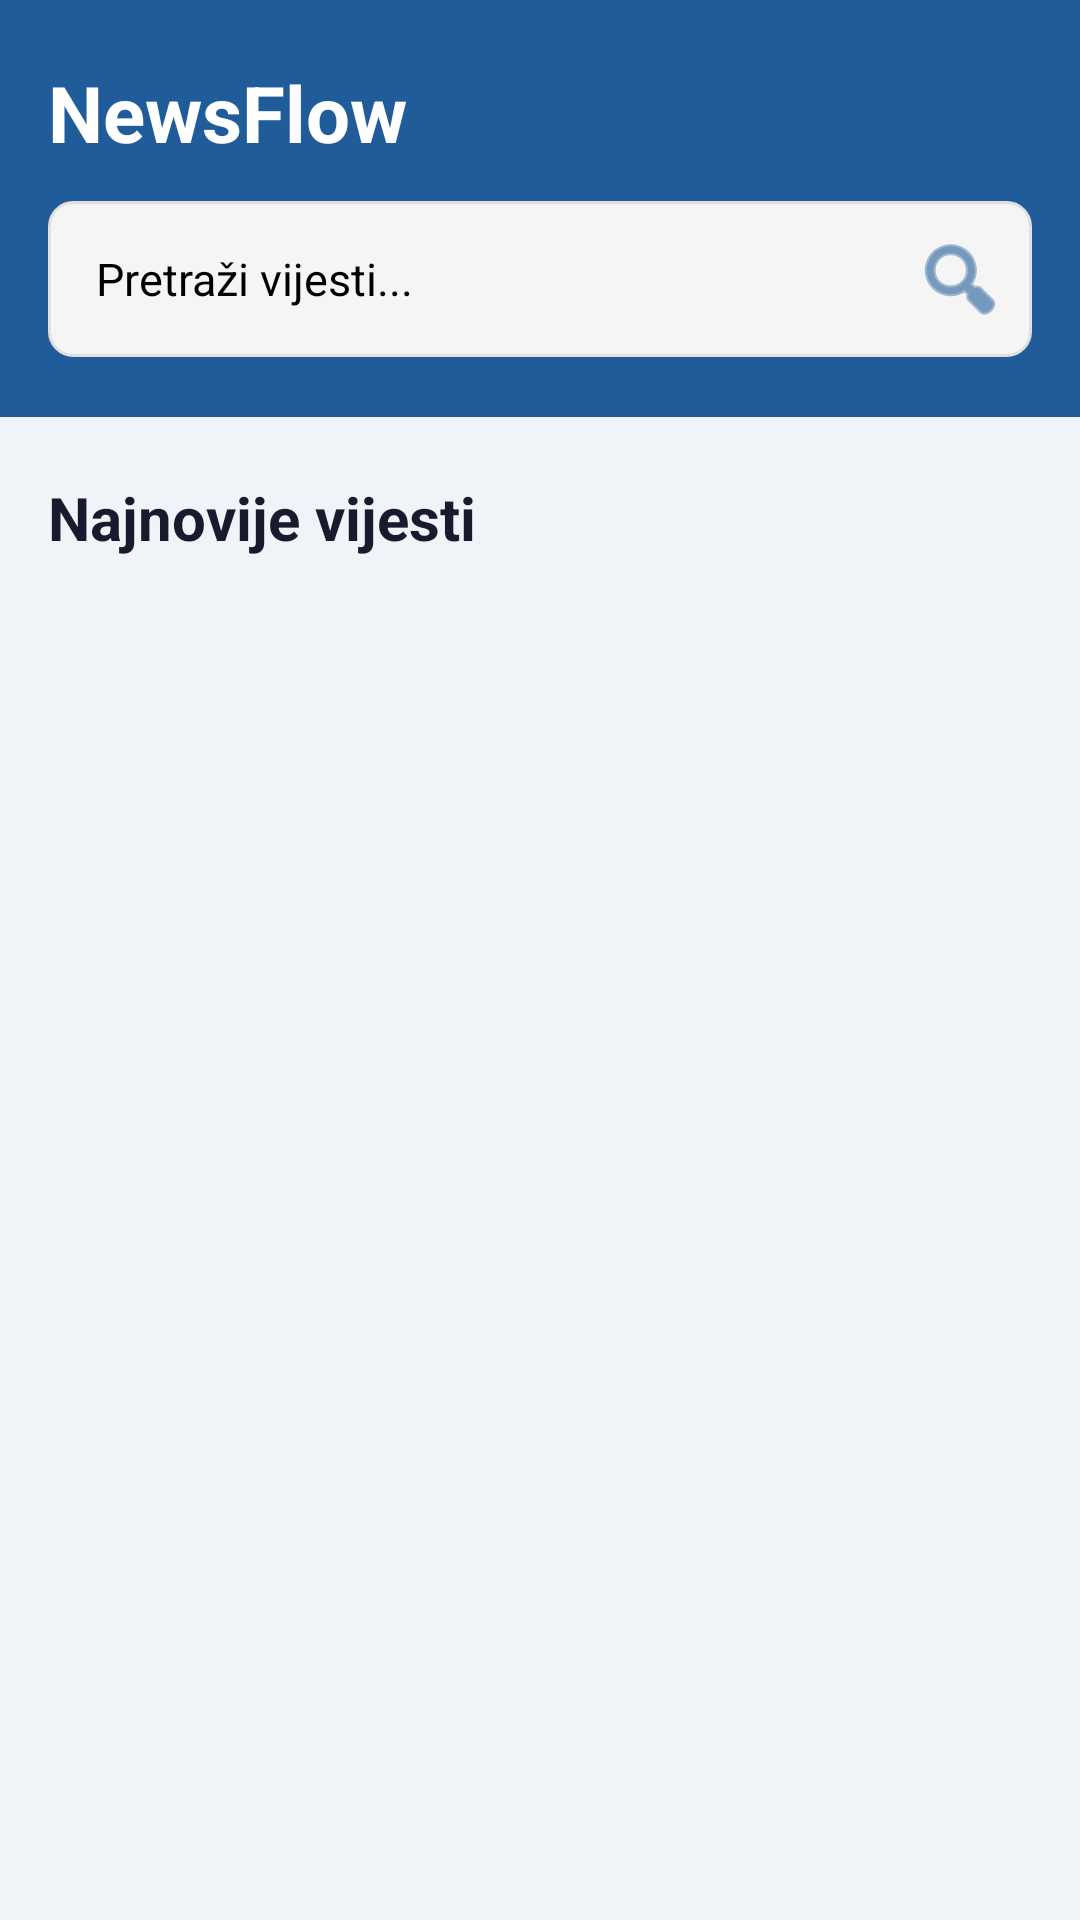

Named icons in this screenshot (1080*1920) and their centers, point (x, y):
search: point (959, 279)
